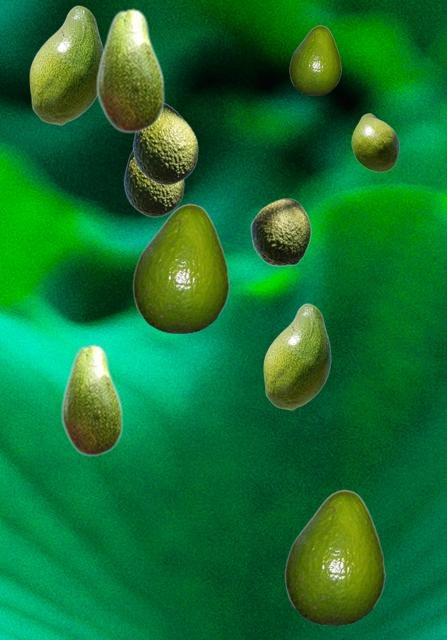avocado: (284, 489, 384, 624), (132, 203, 228, 332), (29, 5, 102, 124), (96, 7, 164, 133), (263, 303, 330, 409), (61, 343, 122, 456), (132, 102, 197, 184), (250, 198, 310, 265), (123, 151, 183, 216), (289, 25, 340, 94), (351, 113, 398, 171)
